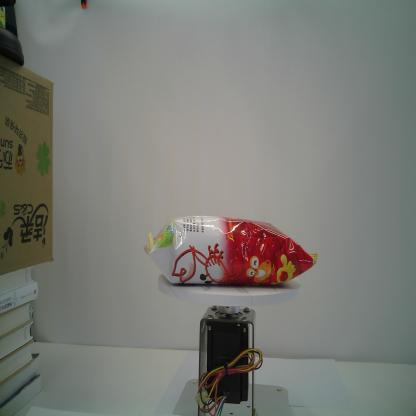Puffed Food: (142, 215, 318, 286)
